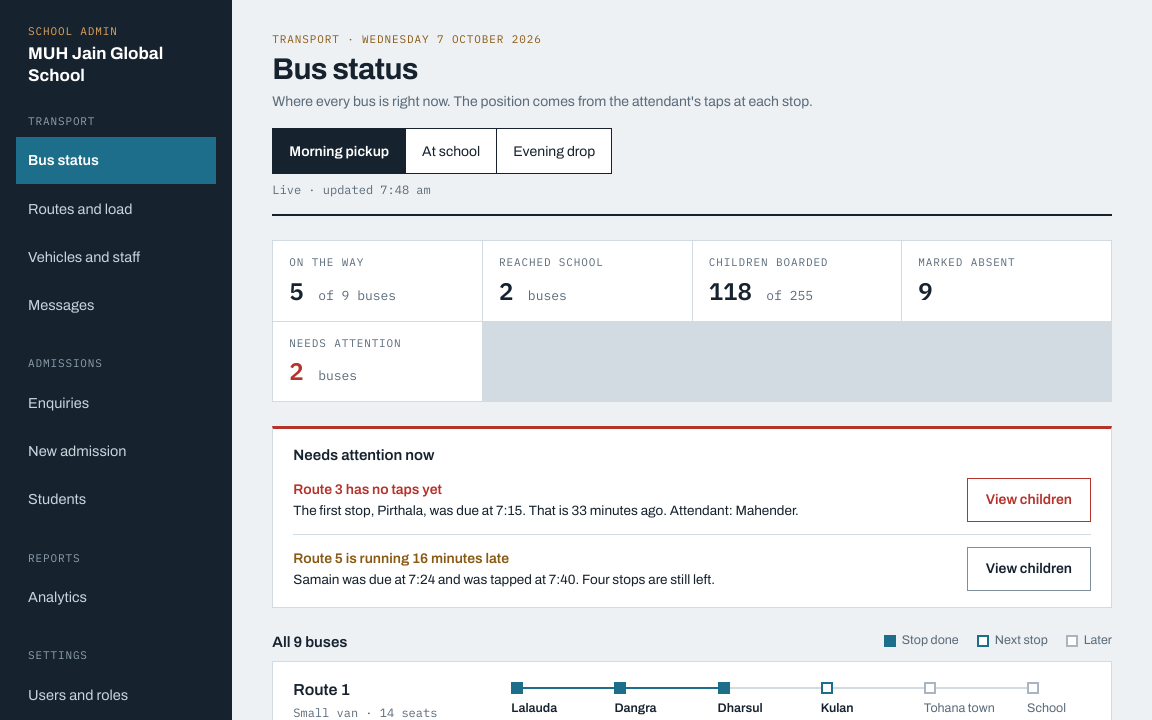
Bus status: the phase in the address › phaseSwitchWritesToTheUrl
Click the button "Evening drop" at (554, 151), box [496, 129, 611, 173]
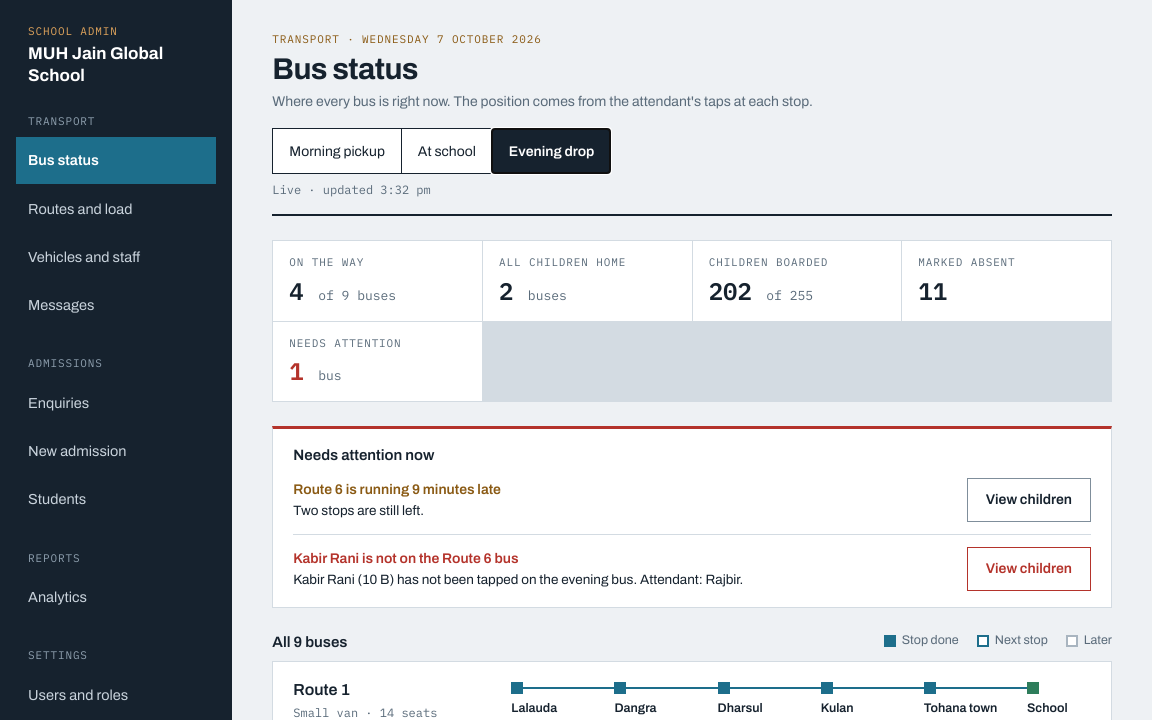
Expected: the element showing "2 buses" is shown, [499, 275, 567, 307]
Expected: the text "Live · updated 3:32 pm" is shown, [272, 182, 431, 198]
